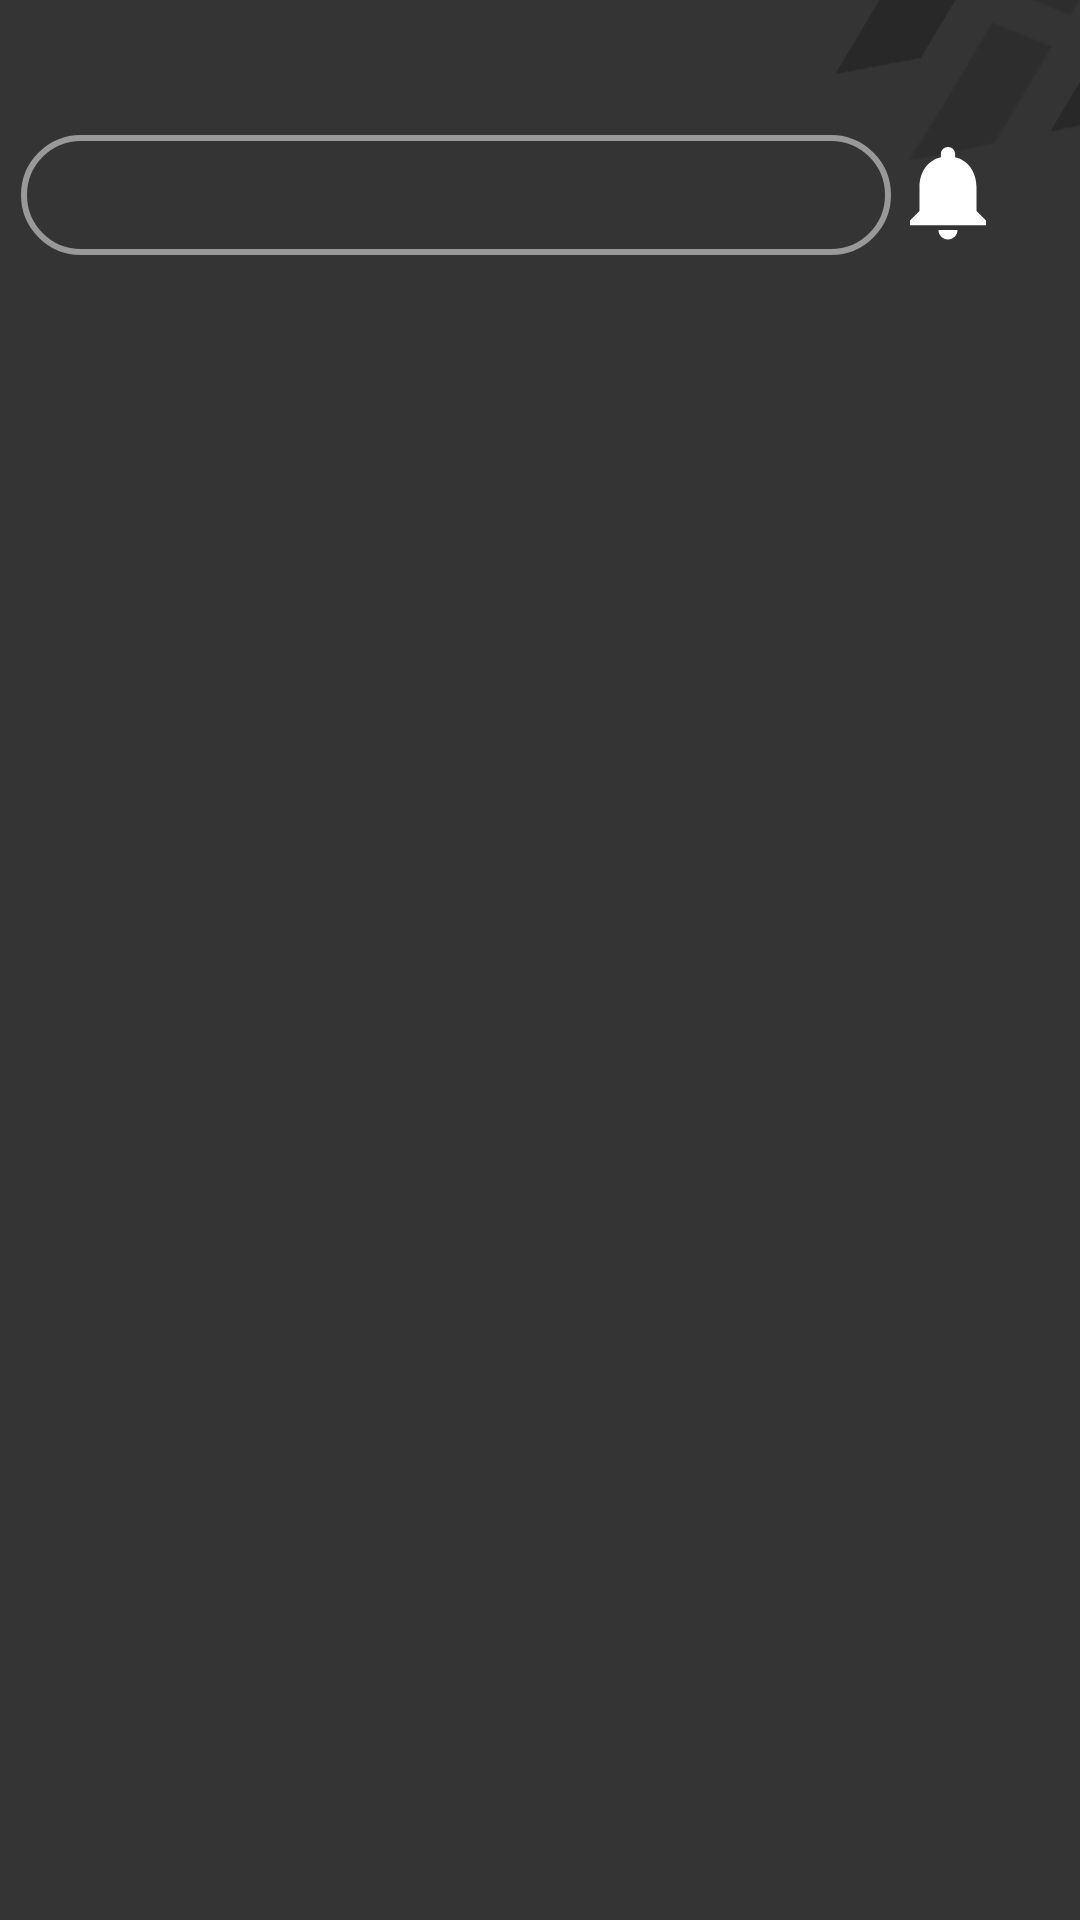

Screen size 1080x1920. Icon name, then its center in pixels as (x=x, y=y):
bell: (x=948, y=193)
